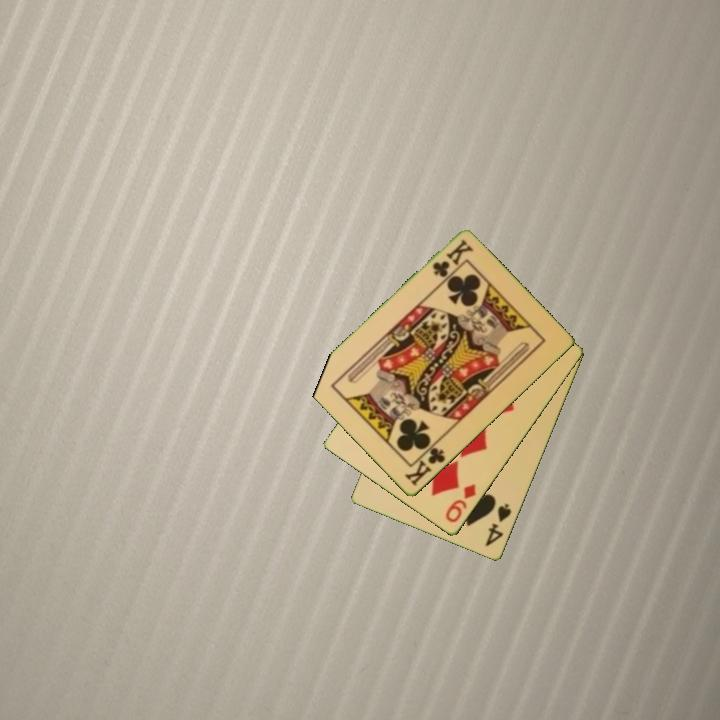4s: (482, 500, 514, 550)
9d: (442, 481, 479, 526)
Kc: (401, 439, 448, 489), (429, 236, 476, 281)
